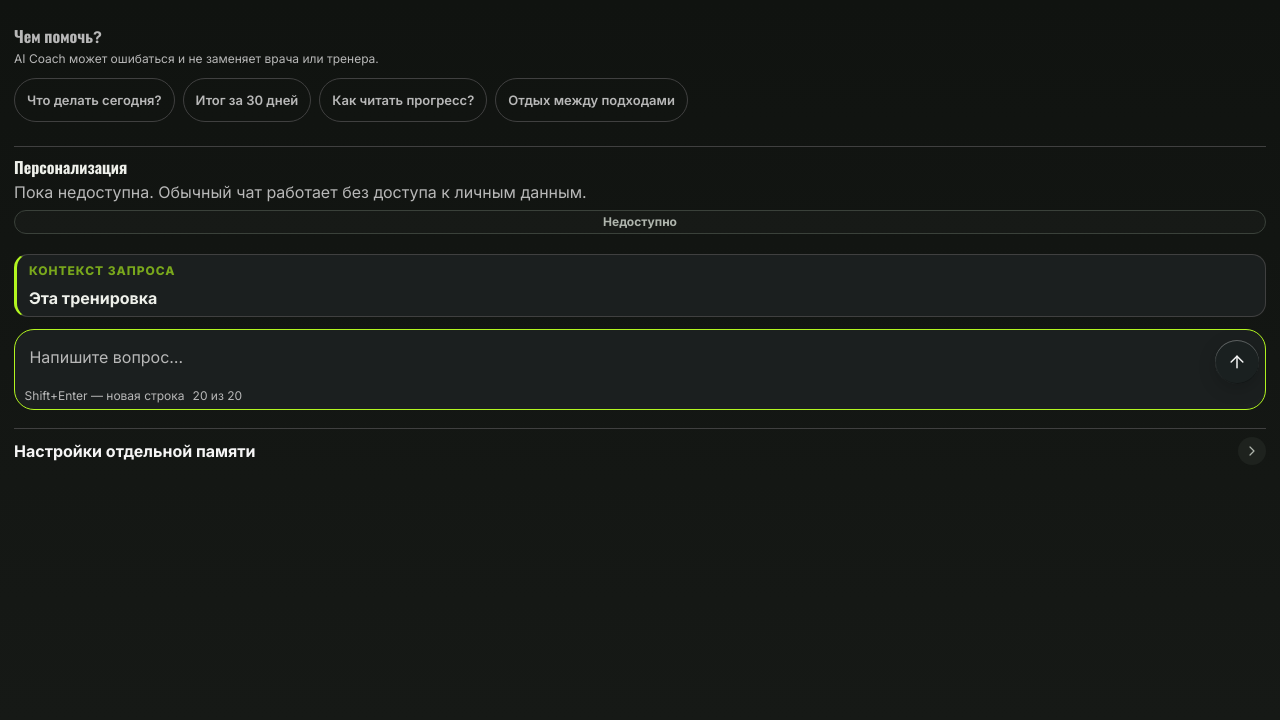
Test case: AiCoachExperience › sends a bounded context descriptor and renders its high-level attachment
Expected: the element with test id "ai-coach-context-attachment" shows "Эта тренировка", 29,288 -> 157,308
Type "Разбери эту тренировку" into the text box named "Сообщение AI Coach".
click(614, 360); type("Разбери эту тренировку")  # box 21,336 -> 1207,384
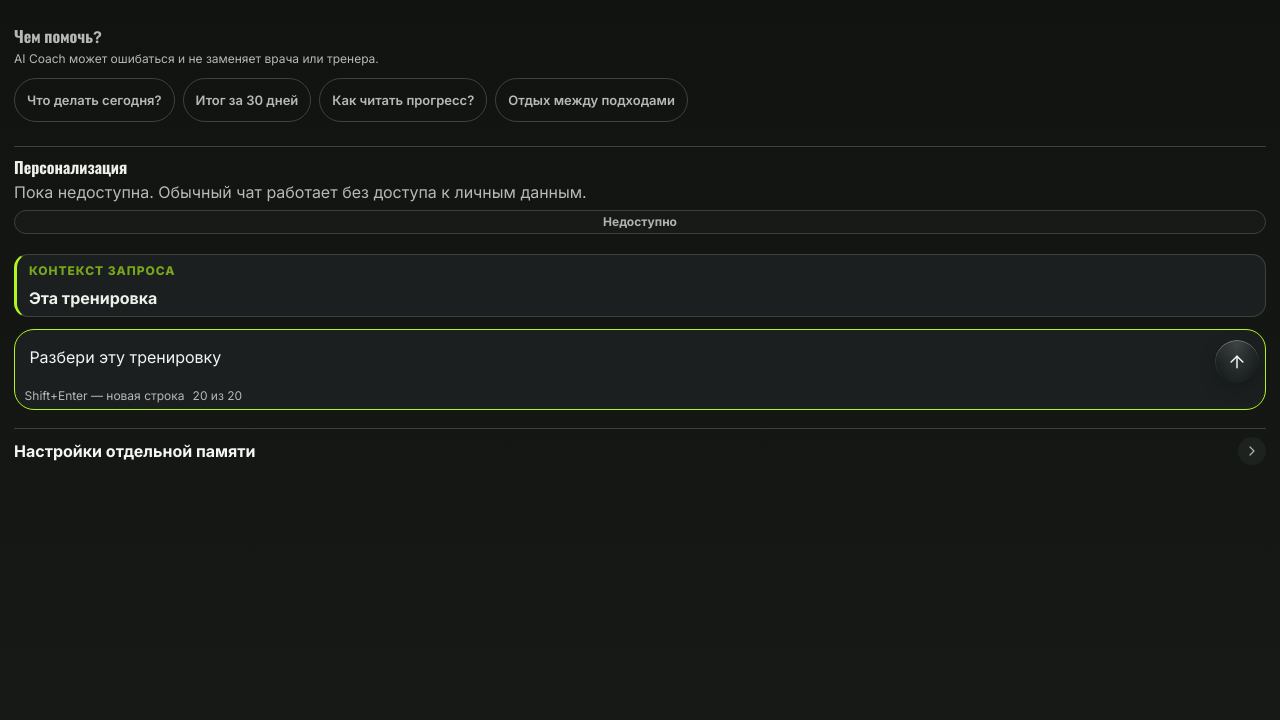
Click the button named "Отправить".
click(1237, 362)  # box 1215,340 -> 1259,384
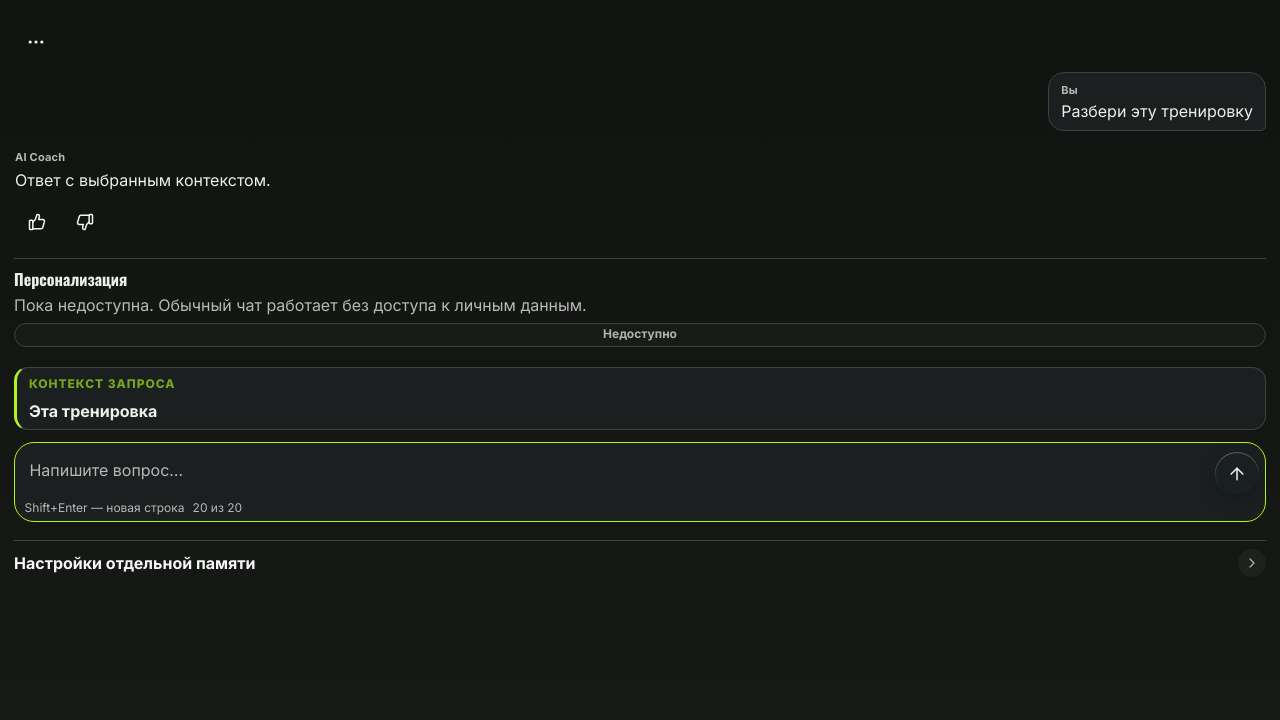
Now the text "Ответ с выбранным контекстом." is shown, box 15,170 -> 271,190
